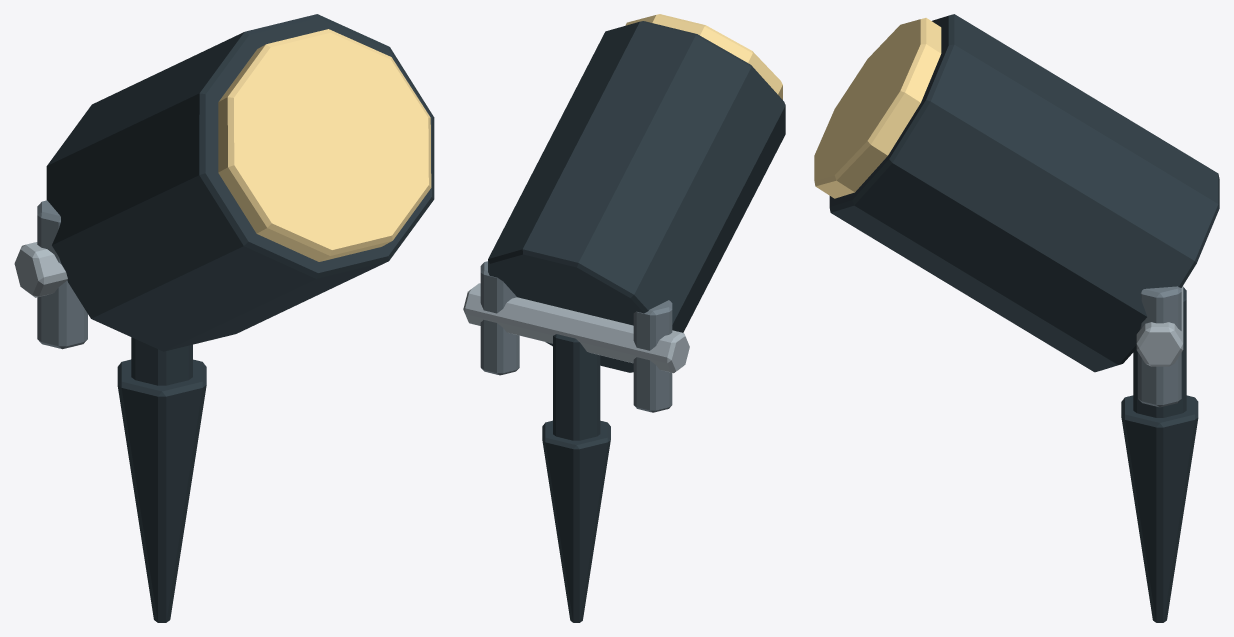
The model's file is b18_ground_stake_spotlight.glb.
3 views of the same model, side by side, from view 1: azimuth 30°, elevation 25°; view 2: azimuth 150°, elevation 25°; view 3: azimuth 270°, elevation 25° (orthographic). The views are drawn at different scales.
Parts seen in each view (by area): view 1: b18_ground_stake_spotlight; view 2: b18_ground_stake_spotlight; view 3: b18_ground_stake_spotlight.
Part boxes in pixels (x1,y1,x2,y2): b18_ground_stake_spotlight: (14,14,434,622); b18_ground_stake_spotlight: (463,14,785,622); b18_ground_stake_spotlight: (814,14,1219,622).
Bounding box in the file's own units: 0.15 × 0.3613 × 0.2245.
